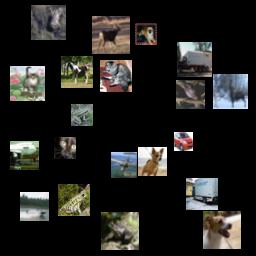airplane: (10, 141, 39, 170), (111, 152, 137, 178)
automobile: (174, 132, 193, 151)
bird: (176, 80, 205, 109)
cat: (10, 66, 45, 101), (100, 60, 132, 92), (54, 137, 76, 159)
deer: (92, 16, 130, 54), (213, 74, 248, 109)
dog: (203, 211, 241, 249), (138, 147, 167, 176), (135, 23, 157, 45)
frog: (101, 212, 139, 250), (31, 5, 66, 40), (58, 184, 90, 216), (71, 104, 93, 126)
ship: (20, 192, 49, 221)
truck: (177, 42, 212, 77), (186, 178, 218, 210)
